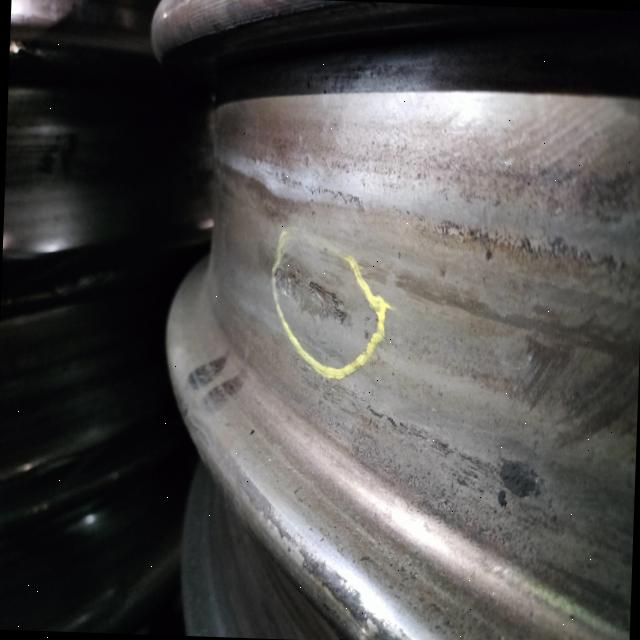Contact_Fatigue_Cracks: (362, 395, 477, 473), (281, 163, 374, 221)
Peeling: (275, 260, 353, 329)
flat: (342, 240, 445, 299)
